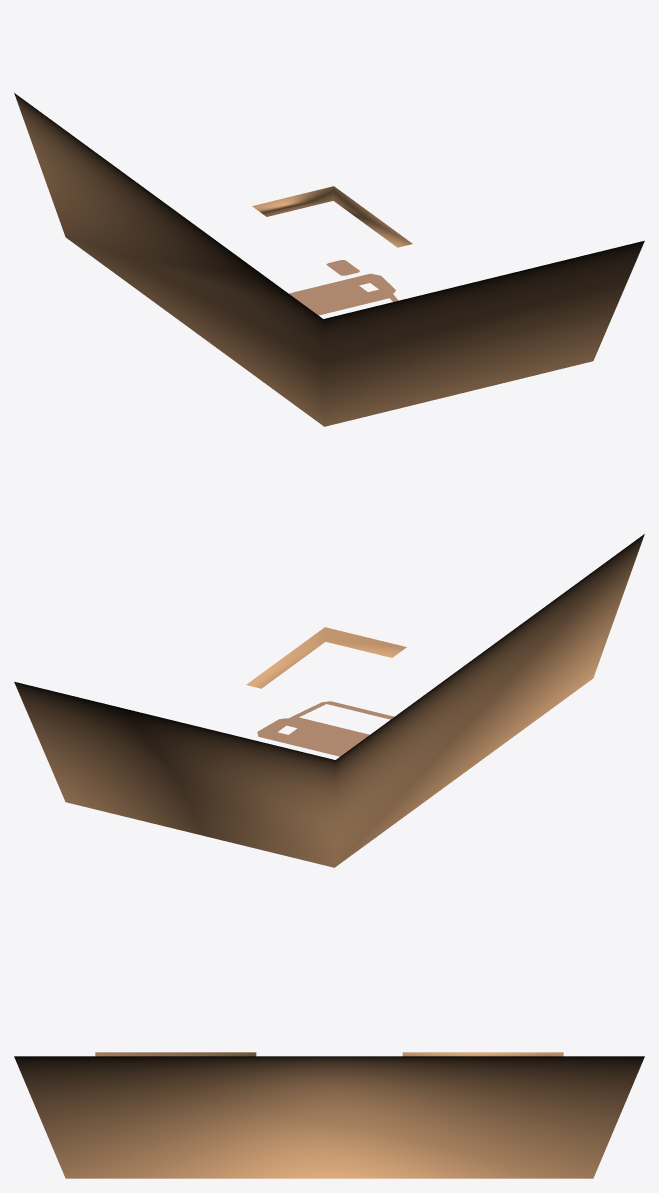
Rendered from parking_spot.glb.
The picture shows the model from 3 angles, top to bottom: view 1: azimuth 30°, elevation 25°; view 2: azimuth 150°, elevation 25°; view 3: azimuth 270°, elevation 25°; orthographic projection.
Parts seen in each view (by area): view 1: parking_spot; view 2: parking_spot; view 3: parking_spot.
Boxes of the visible parts, box(x1,y1,x2,y2) form: parking_spot: box(14, 93, 644, 426); parking_spot: box(14, 534, 644, 867); parking_spot: box(14, 1052, 644, 1178).
Bounding box in the file's own units: 5.07 × 2 × 8.45.
